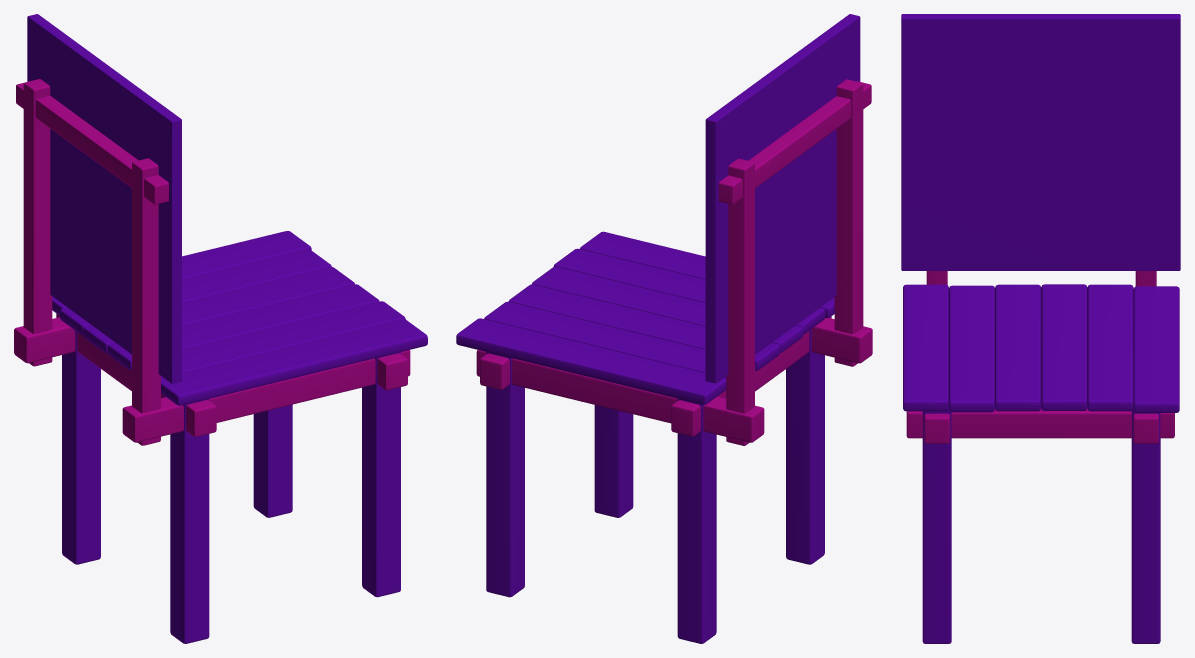
File: Chair_2.fbx
3 renders of one model, left to right at view 1: azimuth 30°, elevation 25°; view 2: azimuth 150°, elevation 25°; view 3: azimuth 270°, elevation 25°, orthographic. The views are drawn at different scales.
Parts seen in each view (by area): view 1: CHAIR_Interrogation; view 2: CHAIR_Interrogation; view 3: CHAIR_Interrogation.
Boxes of the visible parts, x1=… form: CHAIR_Interrogation: x1=14, y1=14, x2=427, y2=643; CHAIR_Interrogation: x1=456, y1=14, x2=872, y2=643; CHAIR_Interrogation: x1=901, y1=14, x2=1180, y2=643.
Size of the model in its own units: 229 by 410 by 200.
